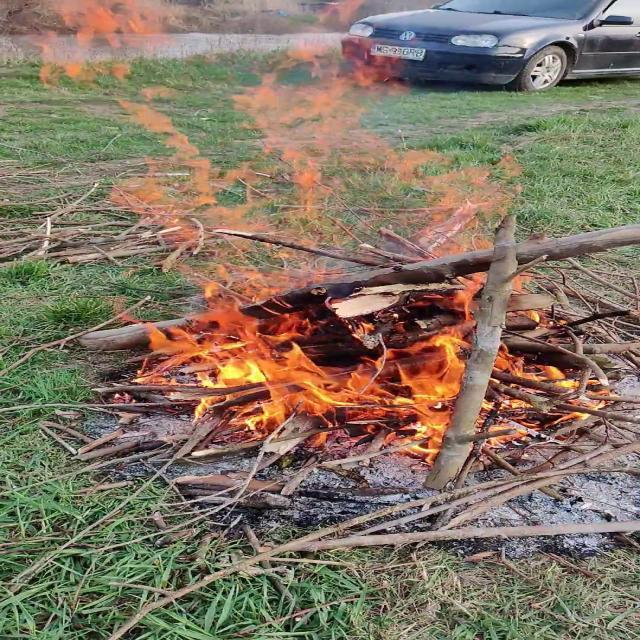Fire: (29, 13, 616, 466)
